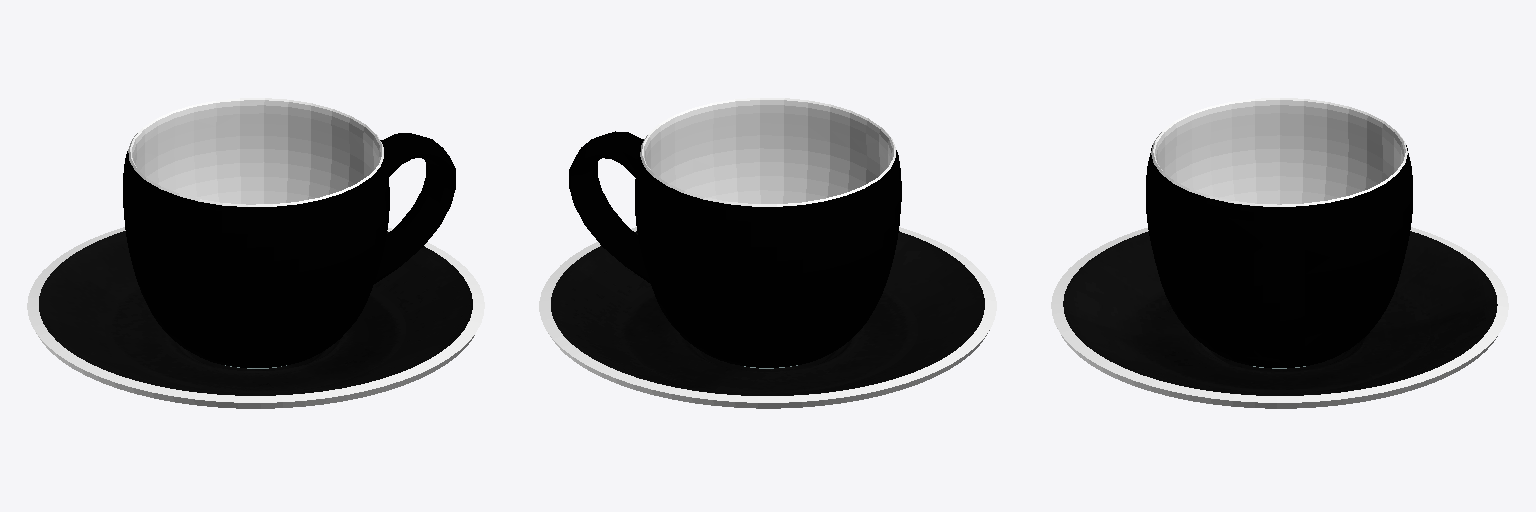
The picture shows the model from 3 angles: view 1: azimuth 30°, elevation 25°; view 2: azimuth 150°, elevation 25°; view 3: azimuth 270°, elevation 25°; orthographic projection.
Visible parts, largest first — view 1: 13.0.114.0; view 2: 13.0.114.0; view 3: 13.0.114.0.
Boxes of the visible parts, x1,y1,x2,y2 form: 13.0.114.0: [27, 98, 484, 408]; 13.0.114.0: [539, 98, 996, 408]; 13.0.114.0: [1051, 98, 1508, 408].
Size of the model in its own units: 12.04 by 6.09 by 12.04.
5 materials, 1 textured.